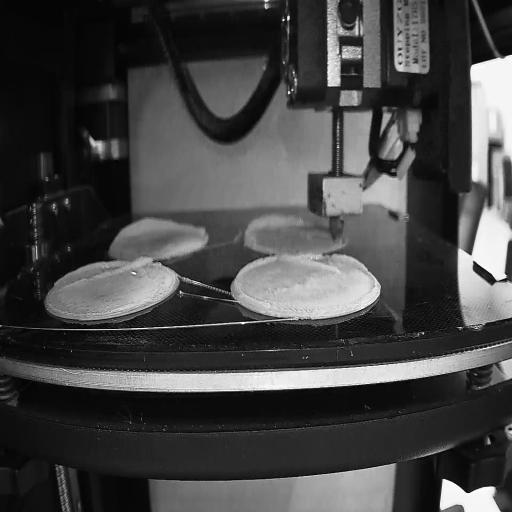over_extrusion: (61, 252, 153, 290), (114, 214, 208, 246), (233, 254, 279, 310), (243, 214, 309, 246), (287, 253, 368, 276)
